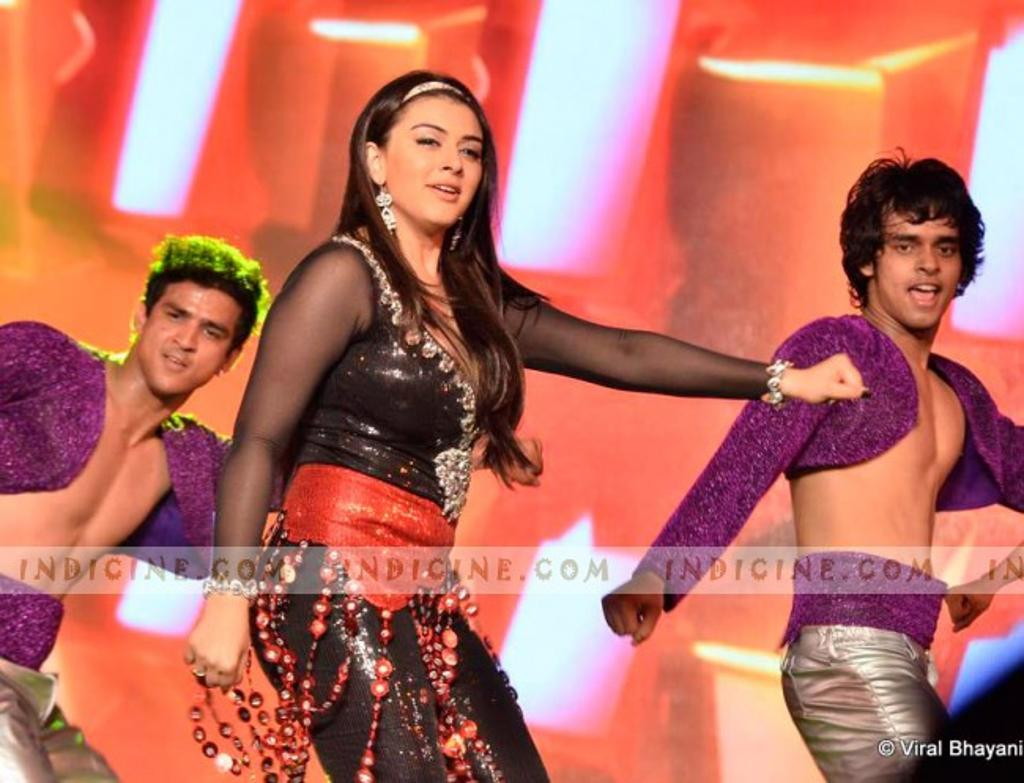face: (388, 90, 488, 224), (874, 190, 964, 328), (138, 280, 238, 392)
